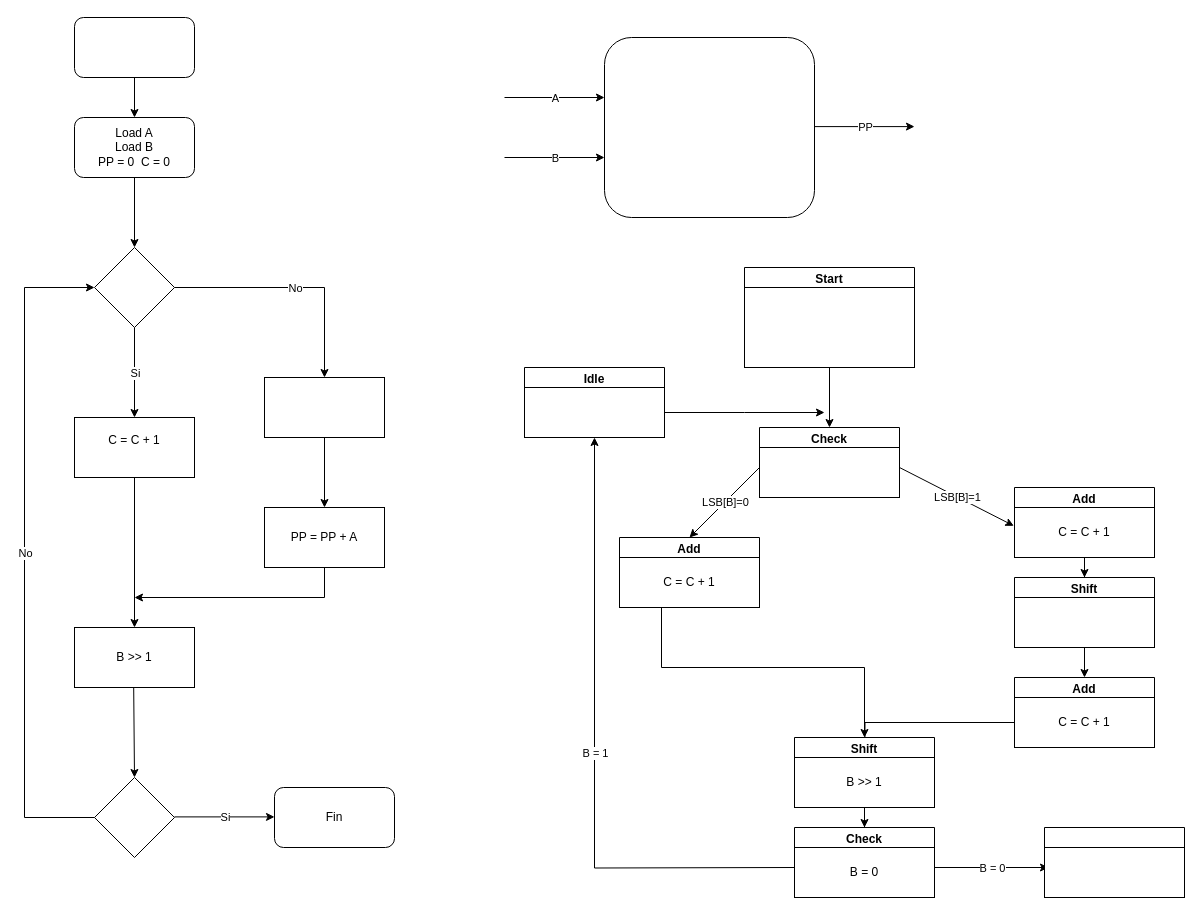
Some shapes in this 1202 by 915 pixel diagram are drawn without their labels. Each missing label, with the box of its shape:
A = A << C: (1014, 596, 1154, 648)
B = 0?: (94, 776, 174, 858)
C = C + 1 A = A << C: (264, 376, 384, 438)
Done: (1044, 826, 1184, 898)
Inicio: (74, 16, 194, 78)
Load A Load B PP = O C = 0: (744, 286, 914, 368)
LSB[B]=0?: (94, 246, 174, 328)
LSB[B]?: (758, 446, 900, 498)
Multiplicador: (604, 36, 814, 218)
